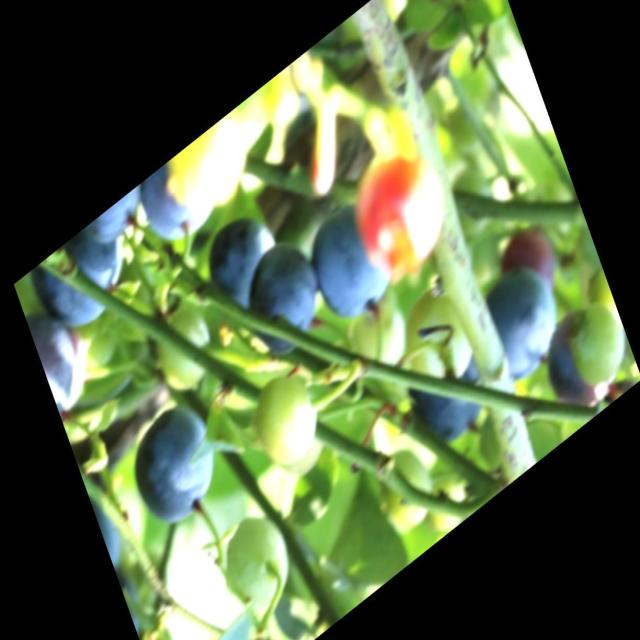blueberry: (124, 388, 221, 534), (470, 250, 566, 395), (303, 190, 395, 332), (34, 212, 129, 342), (400, 337, 494, 464), (240, 233, 326, 362), (199, 200, 284, 318), (137, 143, 216, 257)
blueberry-halfripe: (346, 128, 456, 294)
blueberry-unripe: (209, 498, 301, 631), (245, 354, 329, 480), (396, 277, 478, 404), (558, 290, 634, 400), (368, 431, 441, 539)
